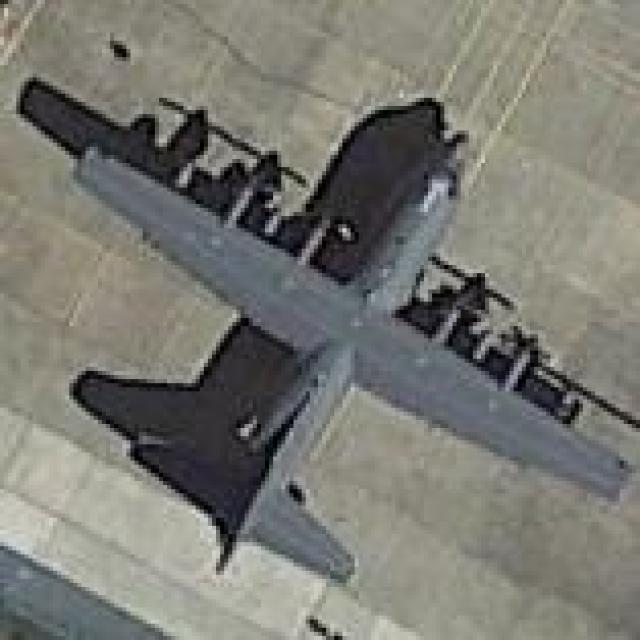C-130_TopDown: (14, 68, 640, 595)
